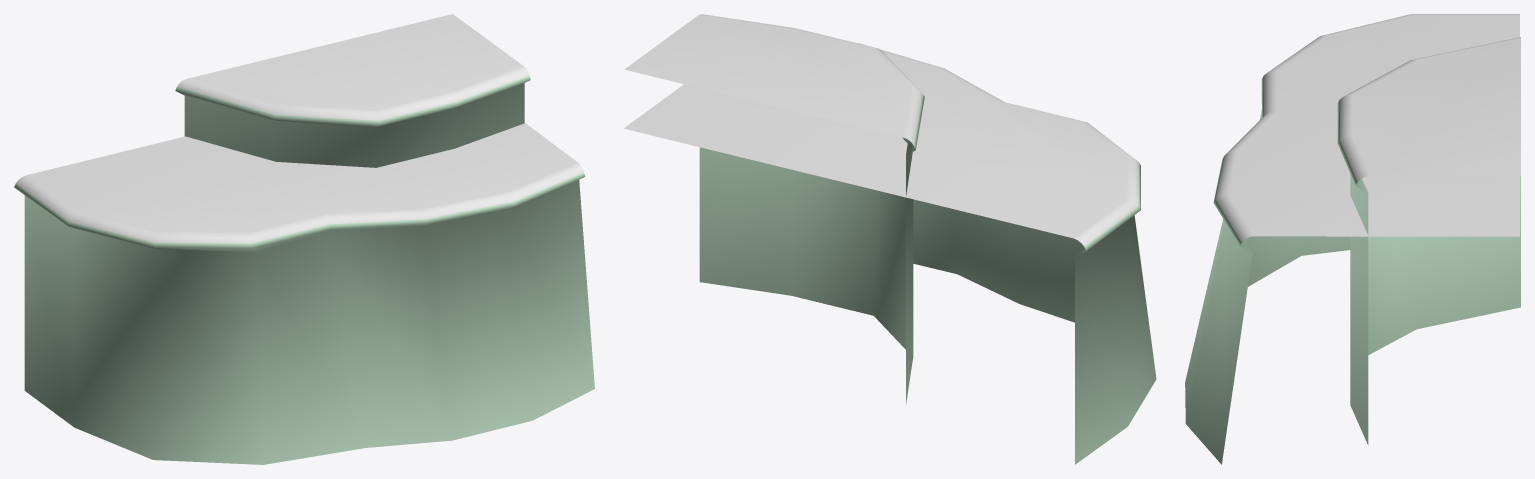
File: WallEndCapRight.fbx
3 views of the same model, side by side, from view 1: azimuth 30°, elevation 25°; view 2: azimuth 150°, elevation 25°; view 3: azimuth 270°, elevation 25° (orthographic). The views are drawn at different scales.
Parts seen in each view (by area): view 1: Wall End Cap Right; view 2: Wall End Cap Right; view 3: Wall End Cap Right.
Boxes of the visible parts, x1,y1,x2,y2 form: Wall End Cap Right: (14, 14, 594, 464); Wall End Cap Right: (624, 14, 1156, 464); Wall End Cap Right: (1185, 14, 1520, 464).
Size of the model in its own units: 524 by 310 by 327.
